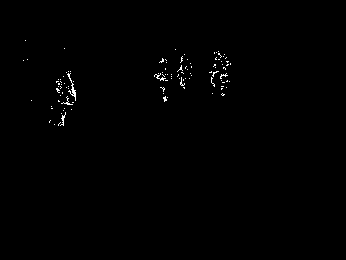person: (51, 67, 79, 129), (208, 48, 233, 99), (153, 53, 173, 105), (177, 49, 194, 93)
